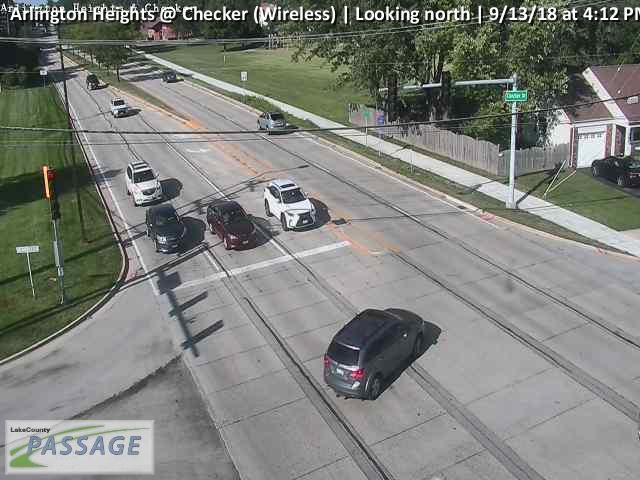SUV: (322, 305, 426, 400), (263, 179, 317, 231), (124, 161, 163, 204)
Sedan: (207, 200, 259, 250), (146, 203, 186, 253), (590, 156, 639, 189), (256, 111, 286, 134), (108, 97, 128, 117), (85, 73, 100, 90), (161, 69, 178, 82)
